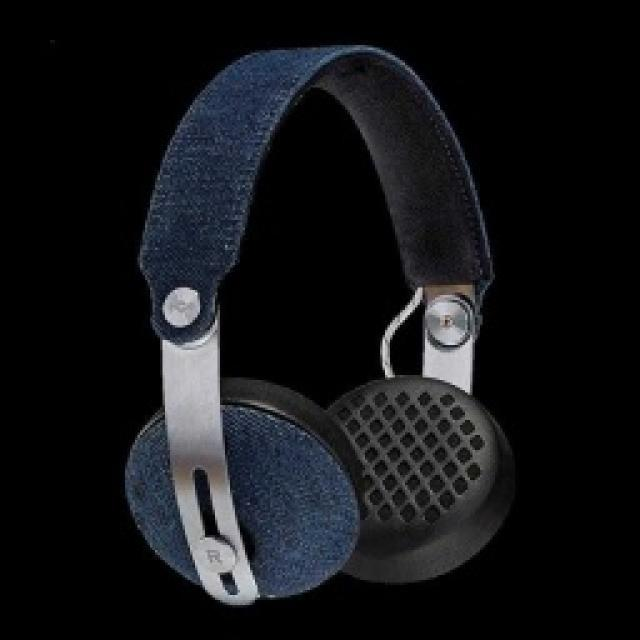headphones: (123, 40, 515, 605)
